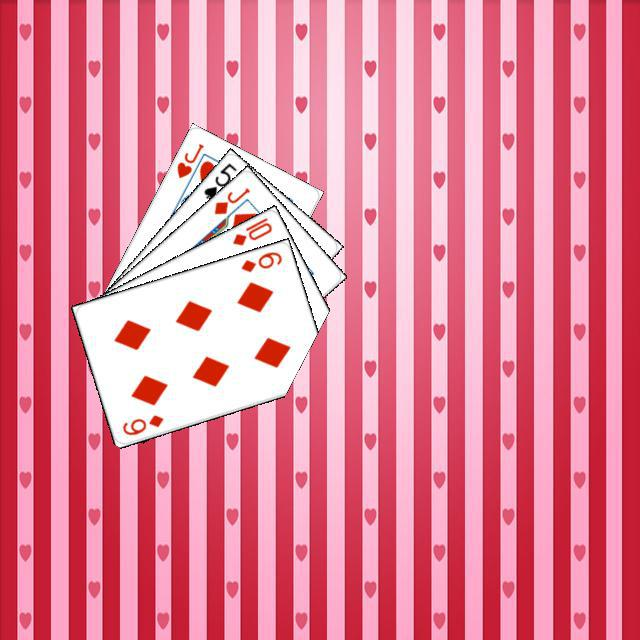10d: (227, 213, 274, 247)
5s: (199, 158, 239, 202)
6d: (117, 410, 165, 437), (236, 247, 283, 274)
Jd: (209, 183, 252, 216)
Jh: (172, 138, 206, 180)
